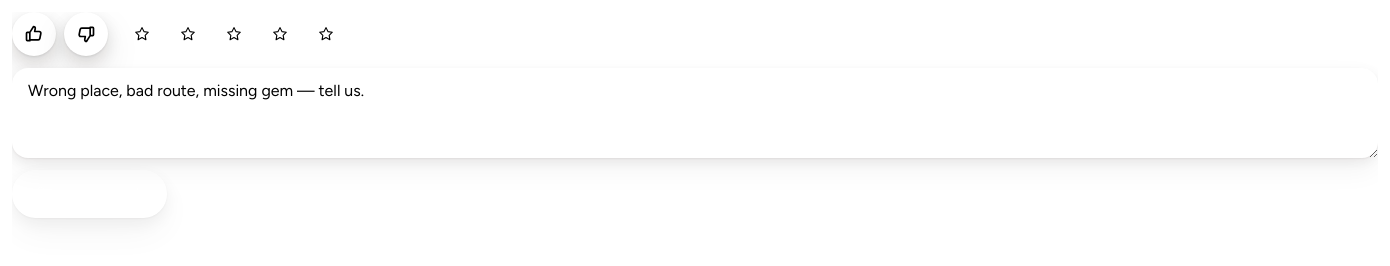
Test case: TripFeedbackPanel — composer › builds the "Saved:" line from the persisted row, even when it contradicts the request
Step 1. Click the button named "thumbs up" → (34, 34), box [12,12,56,56]
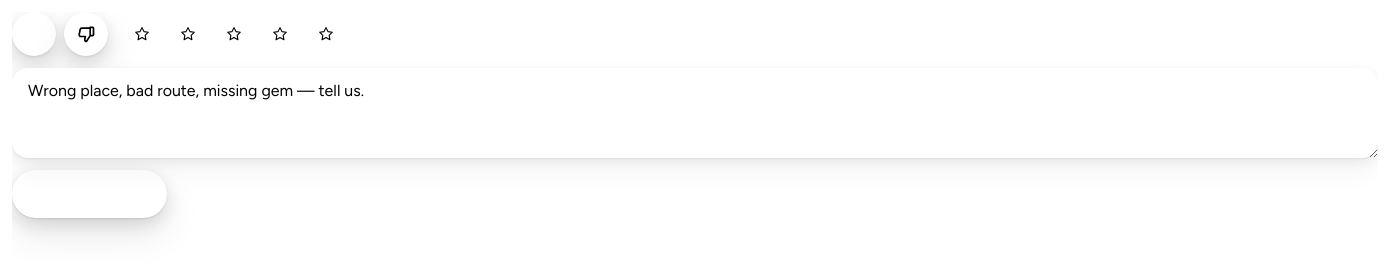
Step 2. Click the button "Send feedback" → (89, 194), box [12,170,167,218]
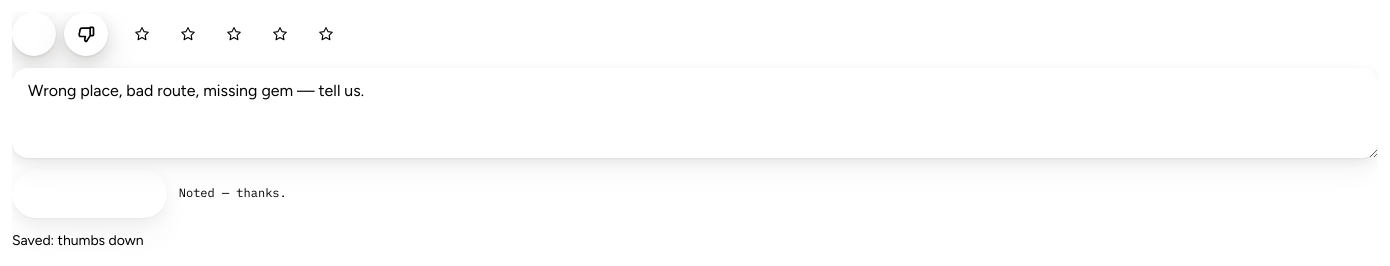
Now the text "Saved: thumbs down" is shown, box [12,232,144,249]
